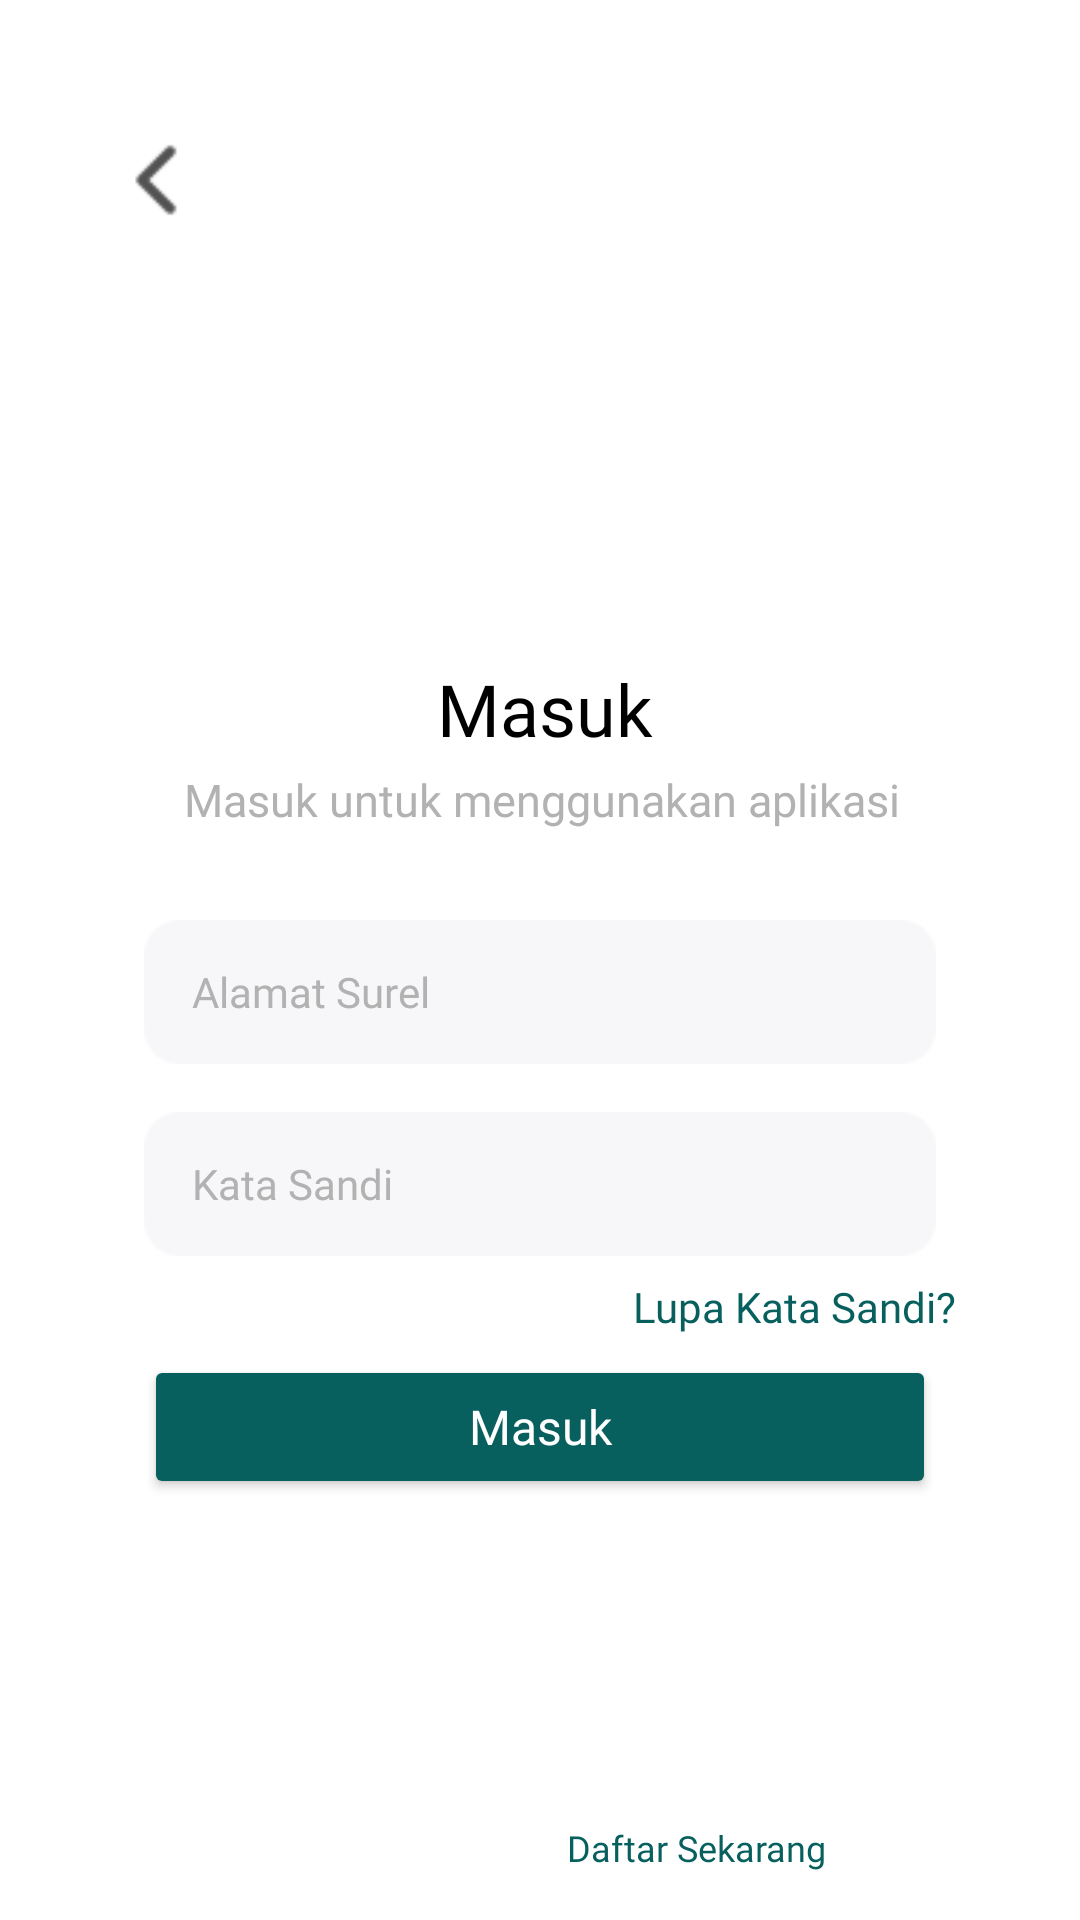

Where to tap for icons on this 1080px×1920px app screen, as [x,y]:
back blank: [156,180]
